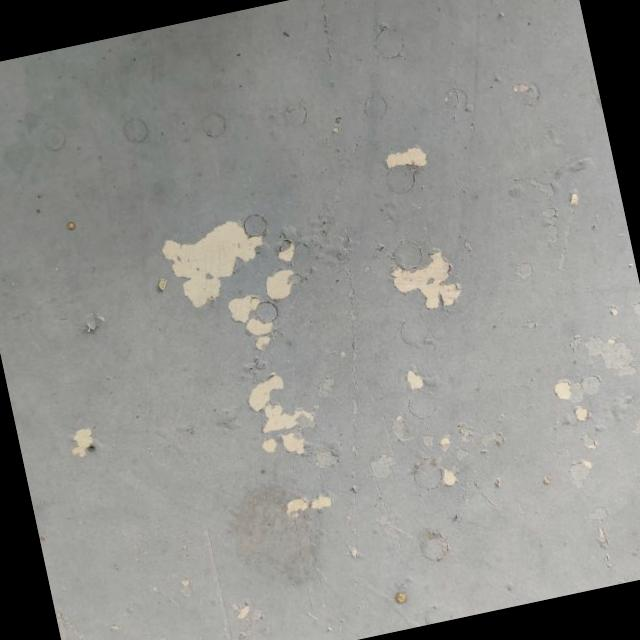paint-off: (139, 186, 329, 384), (230, 361, 340, 476), (378, 236, 478, 335), (368, 127, 448, 196), (274, 472, 346, 538), (56, 408, 114, 472)
